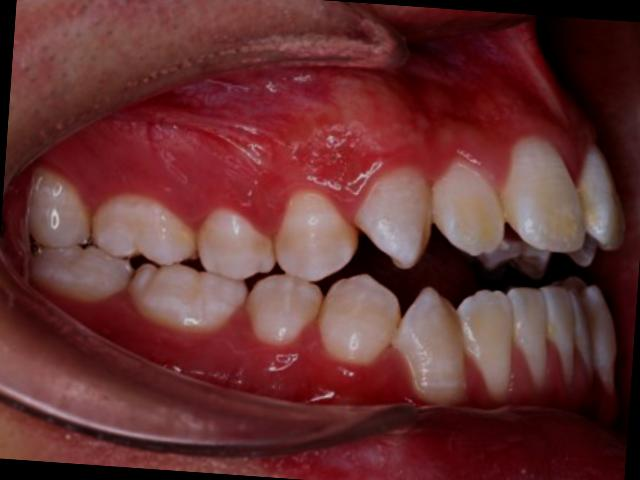canine class I: (312, 152, 480, 412)
molar class III 3/4: (82, 186, 255, 343)
